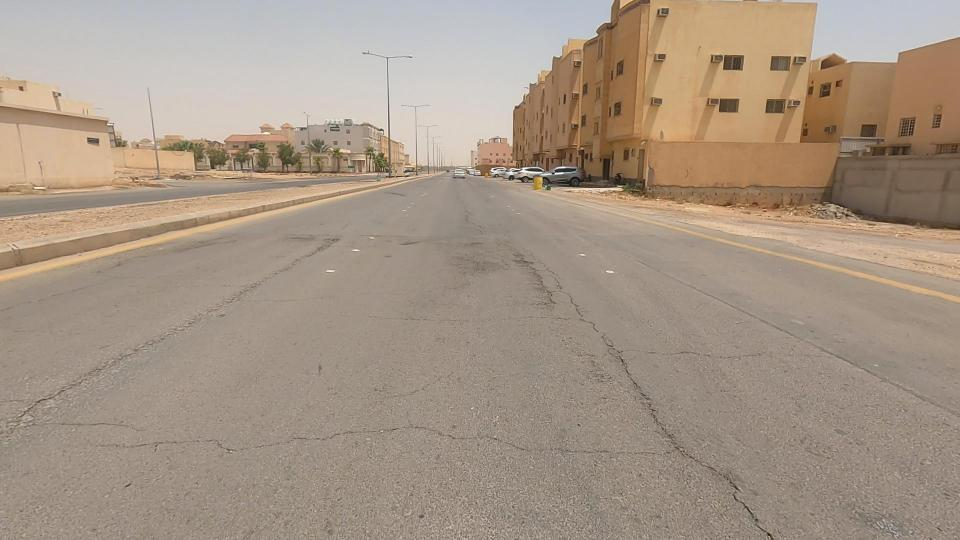GARBAGE: (787, 173, 876, 252)
